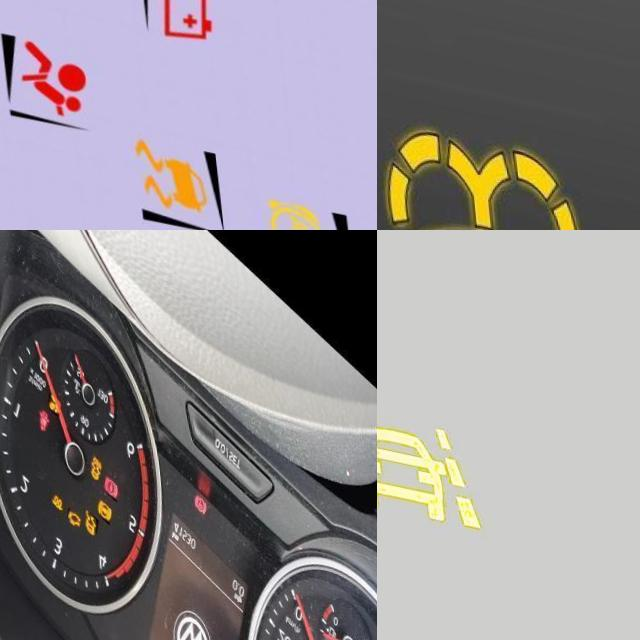Washer Fluid: (377, 98, 640, 230)
